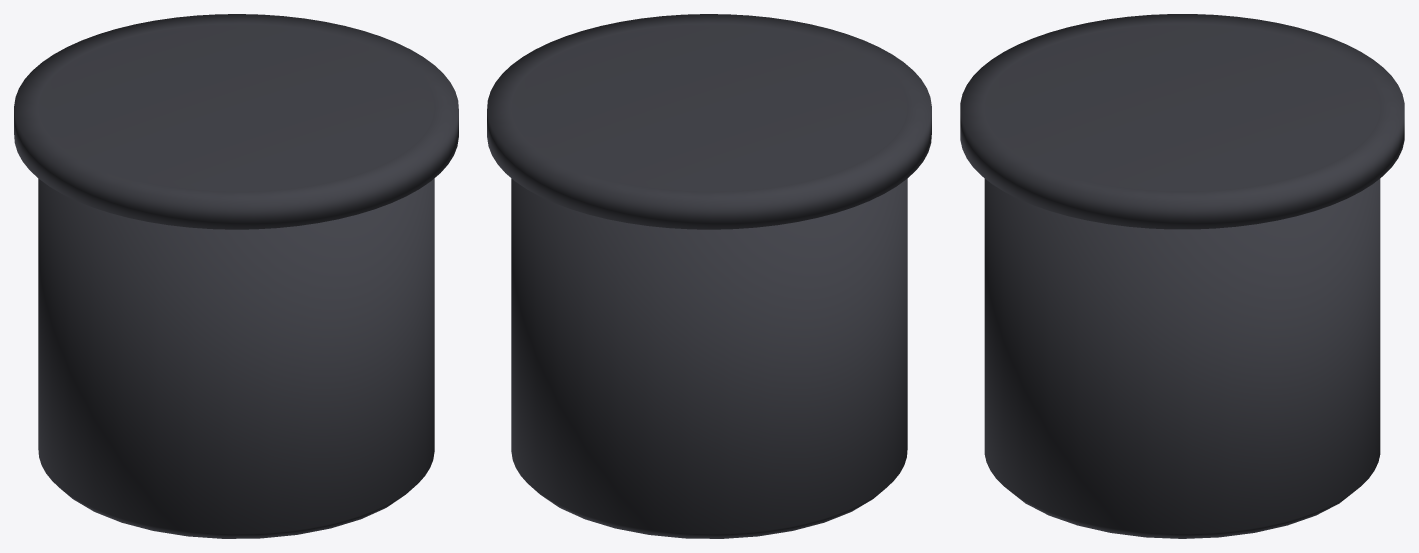
Rendered from tower.dae.
3 views of the same model, side by side, from view 1: azimuth 30°, elevation 25°; view 2: azimuth 150°, elevation 25°; view 3: azimuth 270°, elevation 25° (orthographic).
Parts seen in each view (by area): view 1: Cylinder; view 2: Cylinder; view 3: Cylinder.
Boxes of the visible parts, <box> form: Cylinder: <box>14,14,458,538</box>; Cylinder: <box>487,14,931,538</box>; Cylinder: <box>960,14,1404,538</box>.
Bounding box in the file's own units: 7.97 × 7.97 × 6.98.
1 material, 1 textured.
